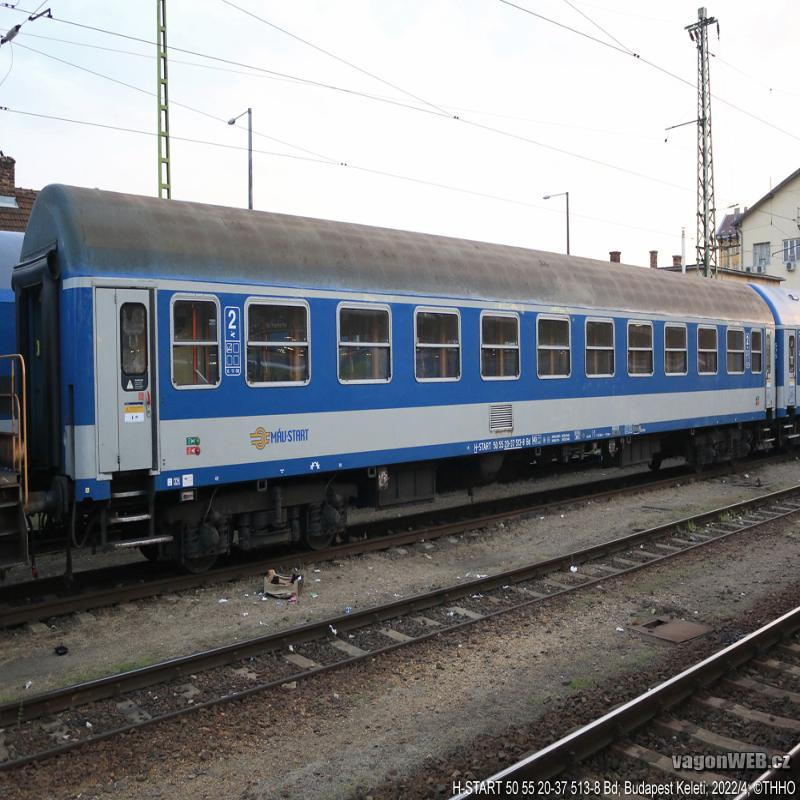train: (14, 185, 780, 583)
